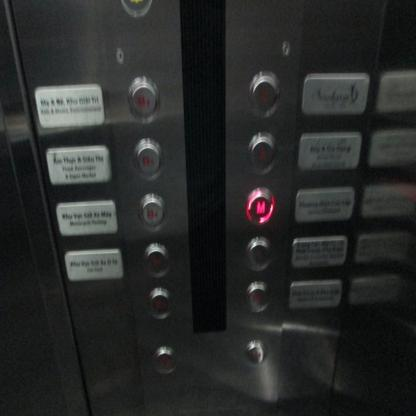B2: (126, 75, 160, 122)
B3: (132, 137, 164, 179)
B4: (137, 191, 165, 230)
M: (245, 187, 274, 225)
blur: (247, 71, 281, 116), (246, 132, 276, 172), (142, 242, 170, 277), (244, 235, 272, 270), (244, 281, 271, 312), (146, 287, 172, 319), (152, 346, 176, 373)
close: (244, 339, 268, 365)
